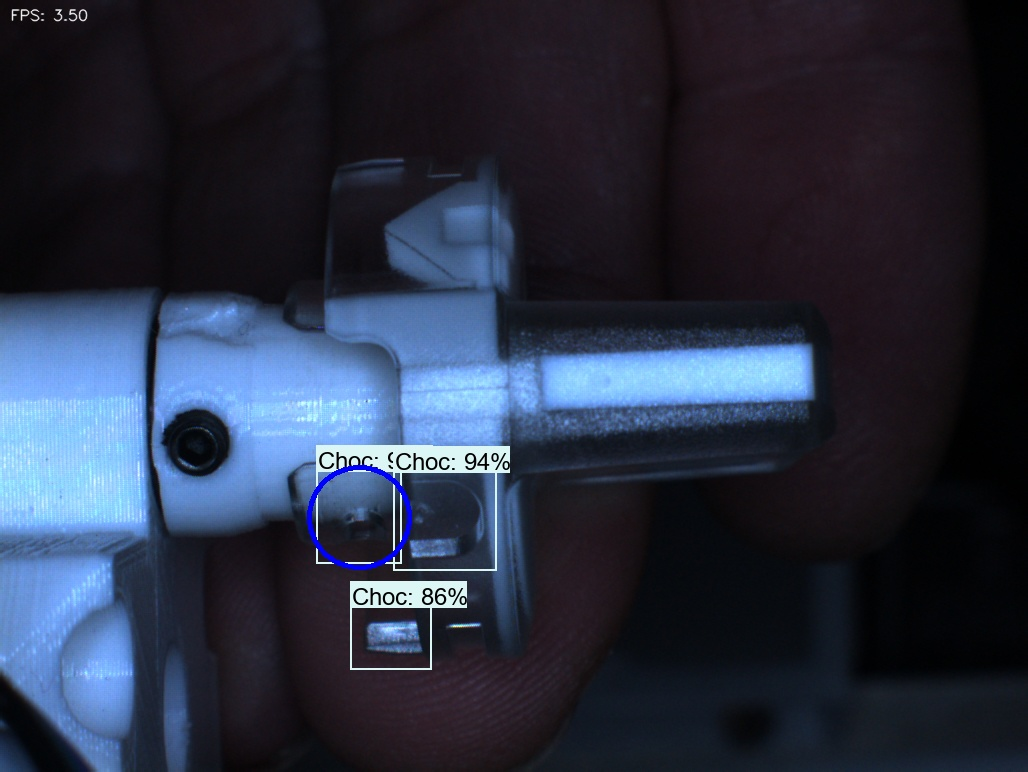DentOk: (362, 197, 434, 288)
